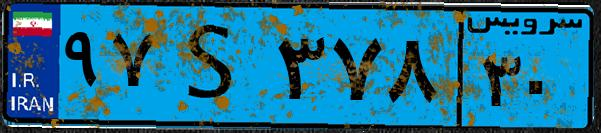0: (525, 38, 570, 115)
3: (270, 28, 330, 110), (475, 38, 525, 113)
7: (330, 28, 385, 110), (110, 28, 158, 98)
8: (385, 28, 445, 110)
9: (57, 26, 110, 100)
S: (158, 12, 270, 120)
